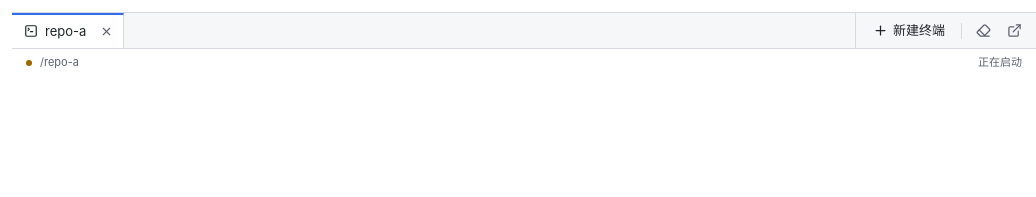
terminal sessions › keeps the last terminal closed across panel hide and repository switches
The width and height of the screenshot is (1036, 197).
Later steps or results of the test are not shown.
Click the button named "关闭终端 repo-a": [106, 32] box [94,20,118,44]
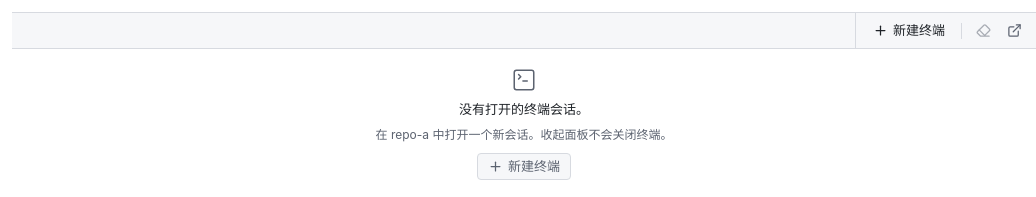
expect the text "没有打开的终端会话。" is shown: met, box [459,100,589,119]
